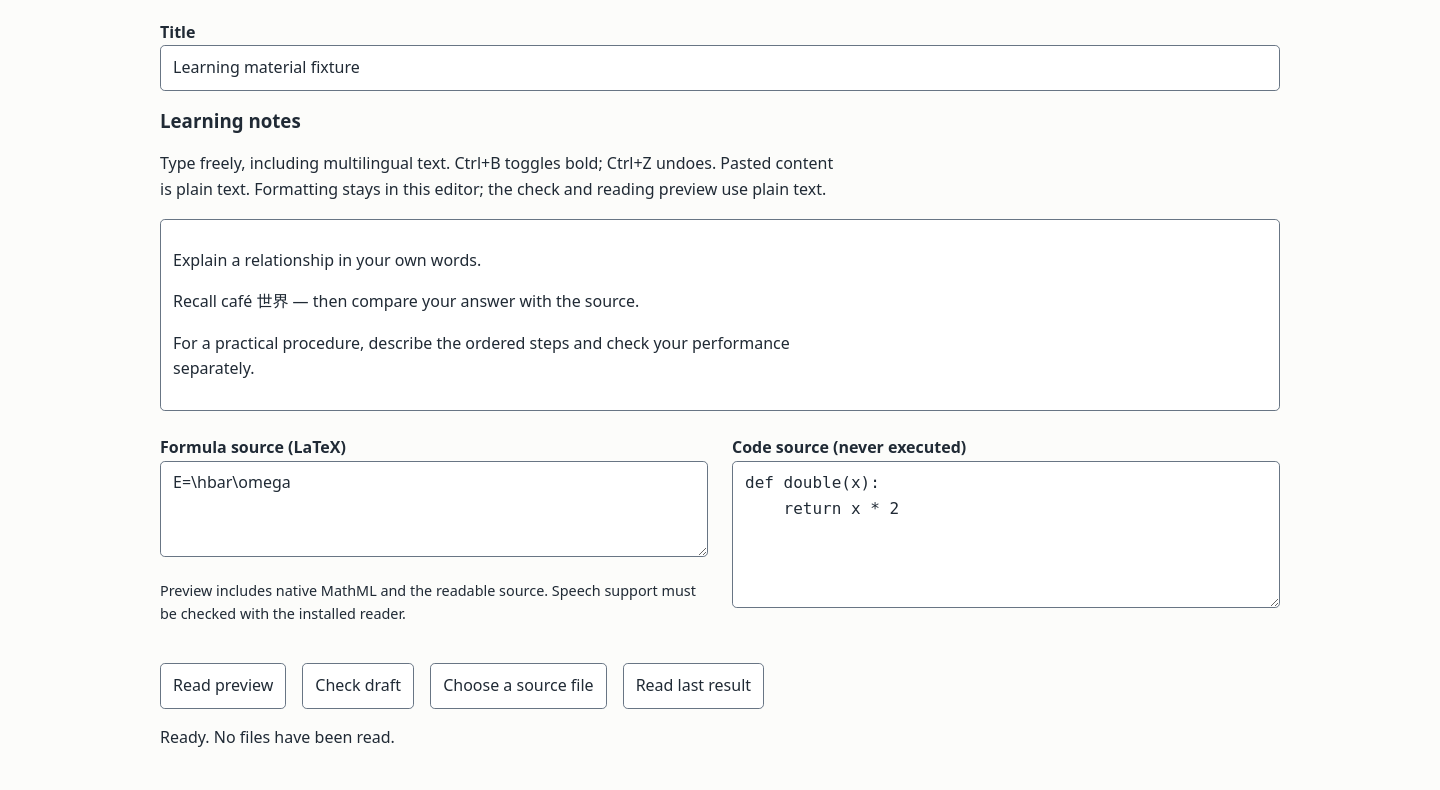
Test case: unexpected failures show a safe message instead of raw object data
(page scrolled)
Click the button "Check draft": (358, 686) [302,663,414,709]
(page scrolled)
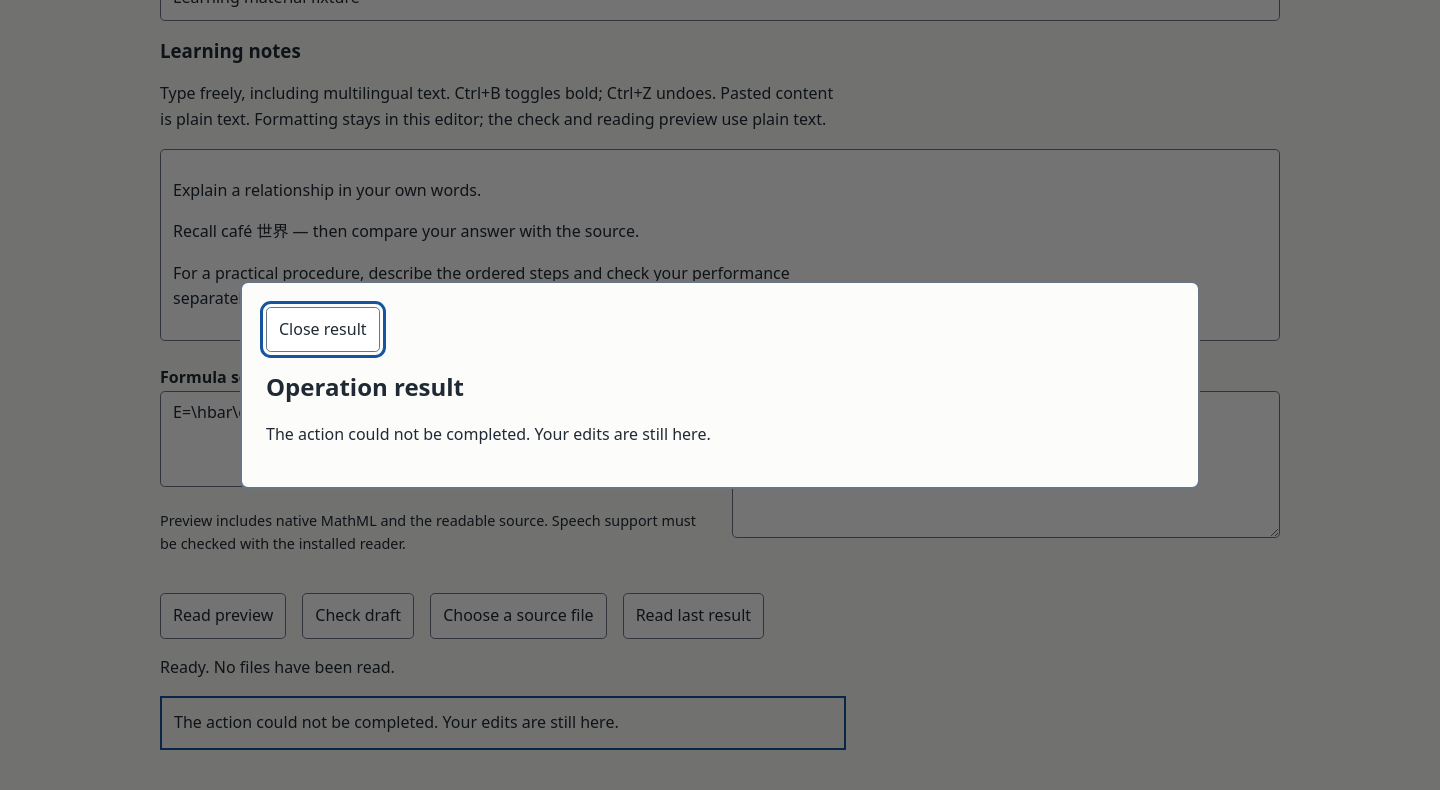
Now the message shows "Your edits are still here", box [174,711,619,733]
